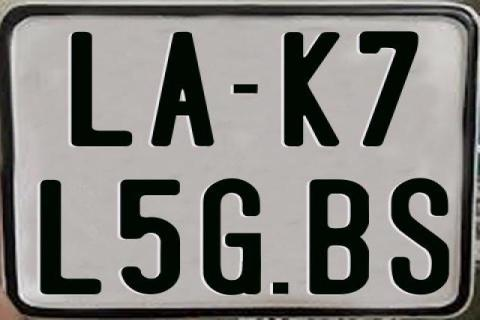0: (118, 178, 182, 298), (360, 29, 422, 145)
A: (150, 32, 214, 146)
B: (310, 177, 371, 292)
G: (203, 178, 261, 298)
K: (281, 31, 341, 145)
L: (68, 32, 135, 147), (37, 179, 99, 299)
S: (389, 178, 447, 300)
